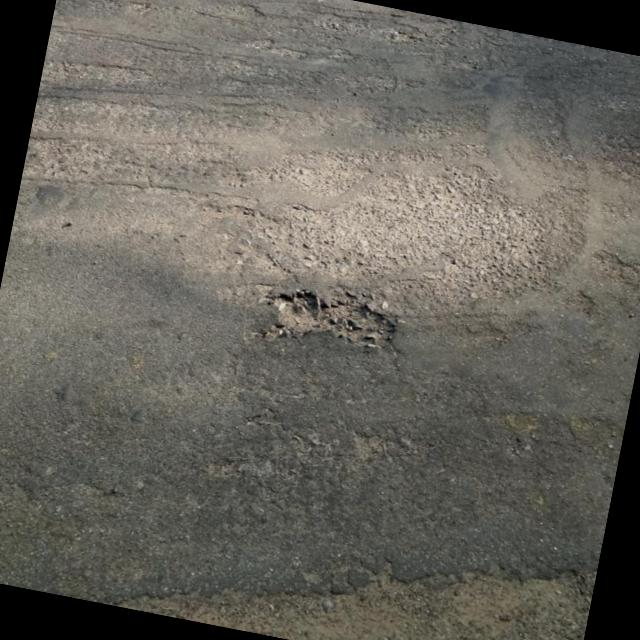Lubang: (267, 290, 394, 346)
